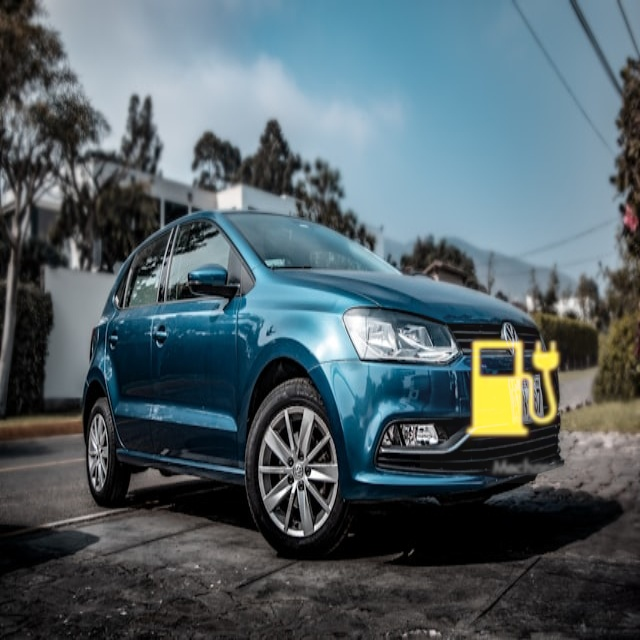symbol: (420, 296, 607, 483)
